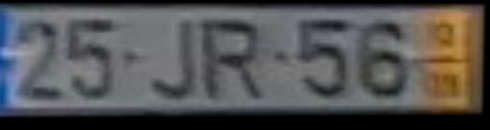2: (11, 17, 67, 104)
5: (294, 19, 353, 101), (64, 18, 119, 104)
6: (352, 18, 413, 102)
J: (146, 17, 201, 103)
R: (201, 18, 266, 104)
